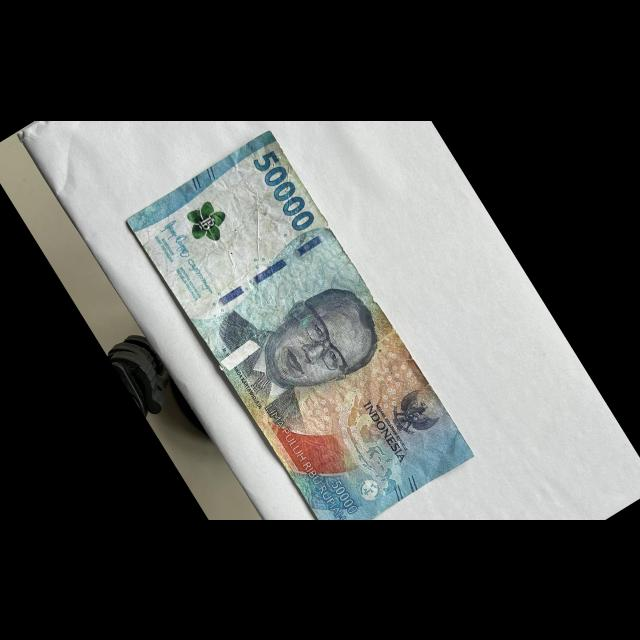Palsu-50k: (119, 124, 481, 551)
Tinta-Palsu-50k: (180, 195, 236, 251)
